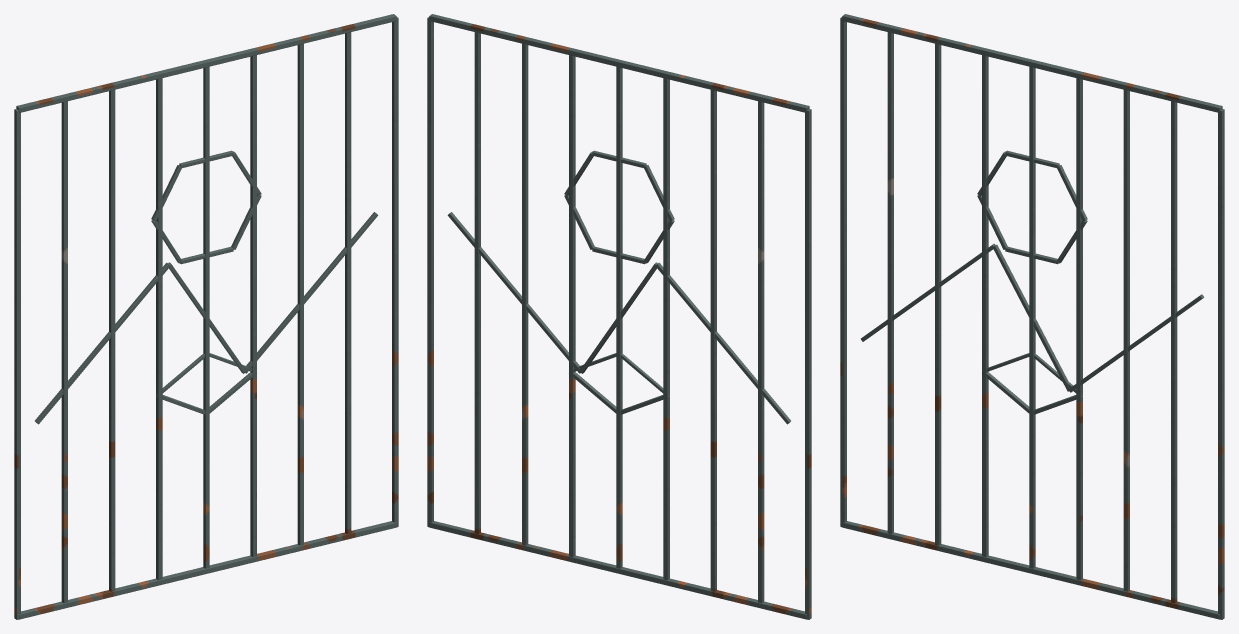
The model's file is SongSatHoa_BoMe.glb.
3 views of the same model, side by side, from view 1: azimuth 30°, elevation 25°; view 2: azimuth 150°, elevation 25°; view 3: azimuth 330°, elevation 25° (orthographic).
Parts seen in each view (by area): view 1: geometry_0; view 2: geometry_0; view 3: geometry_0.
Boxes of the visible parts, x1,y1,x2,y2 form: geometry_0: (14, 14, 398, 619); geometry_0: (427, 14, 811, 619); geometry_0: (840, 14, 1224, 619).
Bounding box in the file's own units: 1.05 × 1.35 × 0.014.
1 material, 1 textured.
